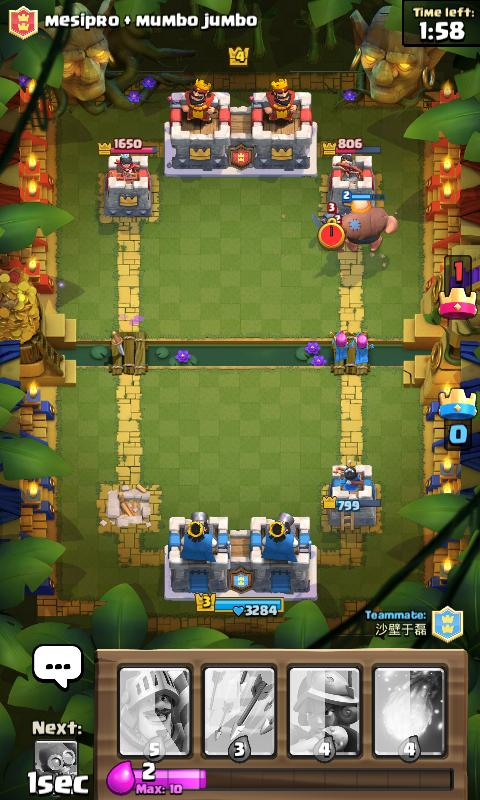ally_archer: (351, 329, 375, 365), (329, 326, 351, 362)
ally_giant: (340, 188, 398, 253)
enemy_mini_pekka: (312, 202, 337, 224)
